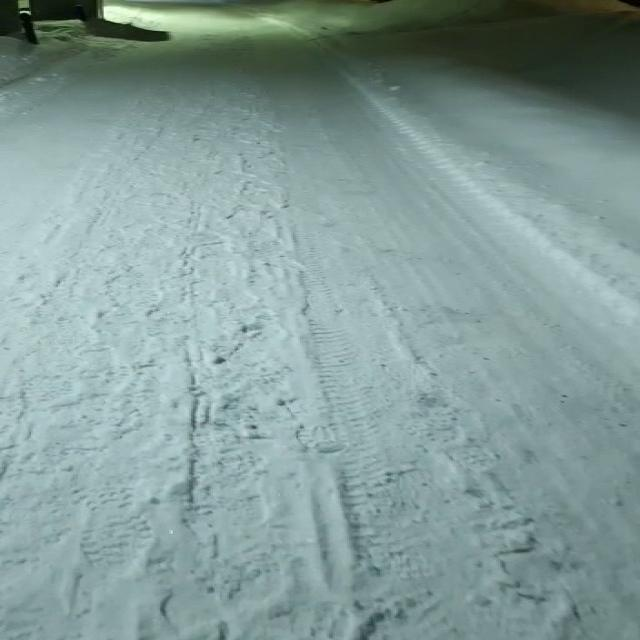path: (0, 0, 640, 640)
